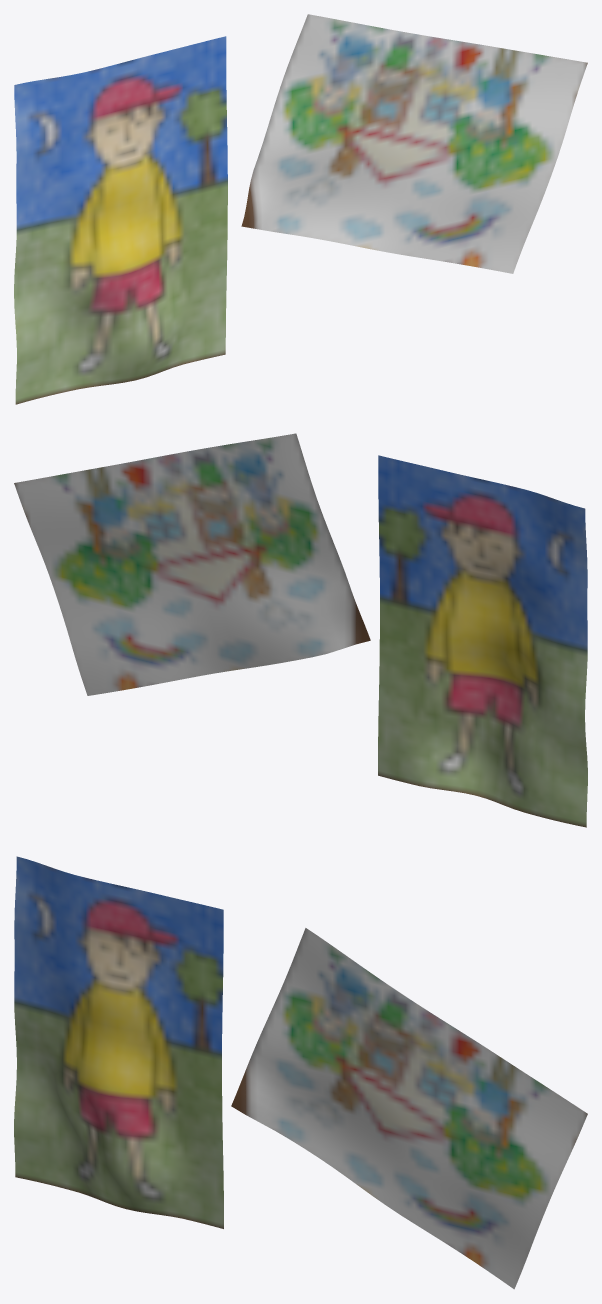
File: DrawingPaper.obj
The picture shows the model from 3 angles, top to bottom: view 1: azimuth 30°, elevation 25°; view 2: azimuth 150°, elevation 25°; view 3: azimuth 330°, elevation 25°; orthographic projection.
Visible parts, largest first — view 1: polySurface146.117, polySurface146.072; view 2: polySurface146.117, polySurface146.072; view 3: polySurface146.117, polySurface146.072.
Boxes of the visible parts, bbox=[...] form: polySurface146.117: bbox=[14, 36, 227, 404]; polySurface146.072: bbox=[241, 14, 587, 273]; polySurface146.117: bbox=[378, 455, 587, 827]; polySurface146.072: bbox=[14, 433, 370, 695]; polySurface146.117: bbox=[14, 856, 223, 1228]; polySurface146.072: bbox=[231, 928, 587, 1289].
Size of the model in its own units: 8.53 by 4.58 by 0.3576.
Materials: 1 (1 with a texture image).
